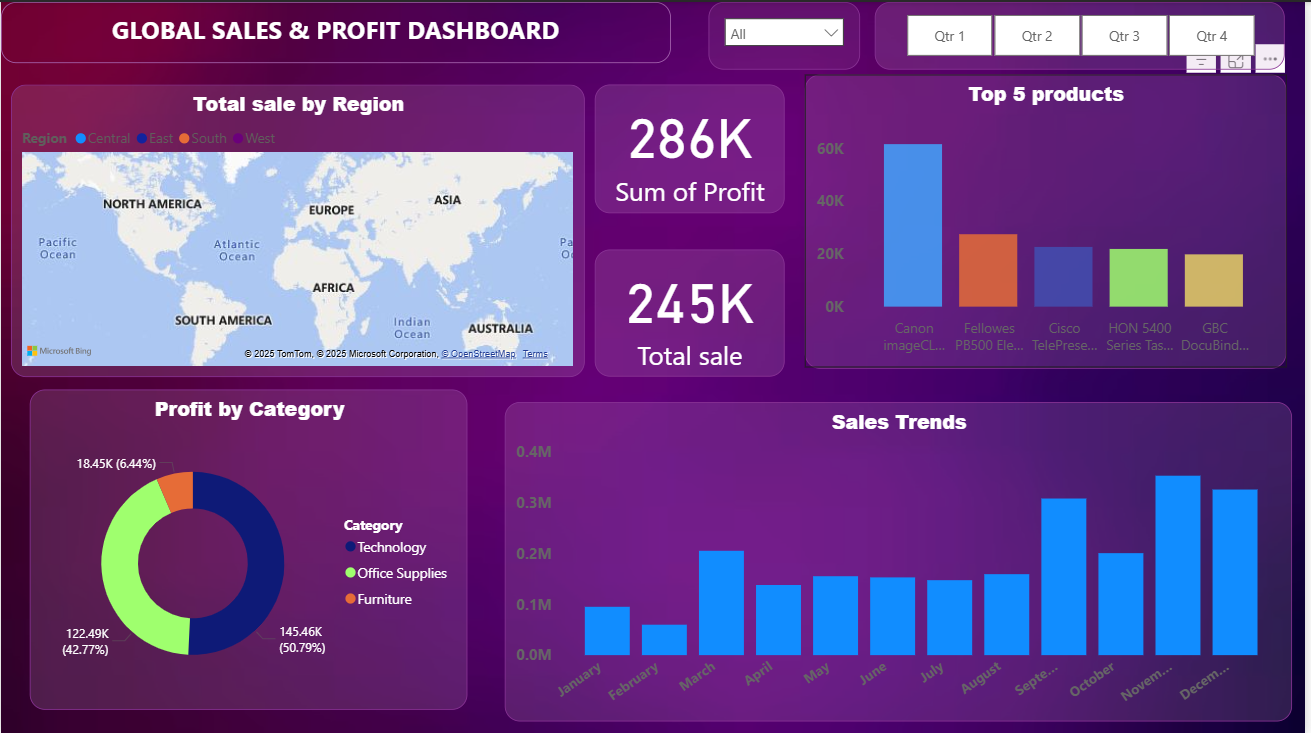

What the dashboard file says about the page in this screenshot:
{"tool":"powerbi","page":{"name":"Page 1","canvas":[1280,720],"ordinal":0},"visuals":[{"type":"donutChart","title":"Profit by Category","fields":{"Category":["sales fact_sales.Category"],"Y":["Sum(sales fact_sales.Profit)"]},"box":[28.5,380.6,429.8,314.6],"z":0},{"type":"columnChart","title":"Sales Trends","fields":{"Category":["sales fact_sales.OrderDate.Variation.Date Hierarchy.Month"],"Y":["Sum(sales fact_sales.Sales)"]},"box":[494.5,392.2,772.8,313.3],"z":1000},{"type":"textbox","box":[0,0,657.7,60.1],"z":2000},{"type":"columnChart","title":"Top 5 products","fields":{"Category":["sales fact_sales.ProductName"],"Y":["sales fact_sales.Total Sales"]},"box":[788.4,71.2,472.5,288.7],"z":3000},{"type":"card","title":"Top 10 products","fields":{"Values":["sales fact_sales.Total Sales"]},"box":[582.8,242.9,186.5,125.2],"z":4000},{"type":"card","fields":{"Values":["Sum(sales fact_sales.Profit)"]},"box":[582.8,81,186.5,126.4],"z":5000},{"type":"filledMap","fields":{"Series":["sales fact_sales.Region"]},"box":[10.4,81.6,563.1,287.4],"z":6000},{"type":"slicer","fields":{"Values":["sales fact_sales.OrderDate.Variation.Date Hierarchy.Quarter"]},"box":[857.7,0,402.5,66.3],"z":7000},{"type":"slicer","fields":{"Values":["sales fact_sales.Segment"]},"box":[694.5,0,148.5,66.3],"z":8000}]}

Visuals, with their boxes in screenshot pixels (x1, y1, x2, y2), scaled from the page's 1280x720 canvas onto the 1311x733 screenshot:
"Profit by Category" donutChart: [left=29, top=387, right=469, bottom=708]
"Sales Trends" columnChart: [left=506, top=399, right=1298, bottom=718]
textbox: [left=0, top=0, right=674, bottom=61]
"Top 5 products" columnChart: [left=807, top=72, right=1291, bottom=366]
"Top 10 products" card: [left=597, top=247, right=788, bottom=375]
card - Sum(sales fact_sales.Profit): [left=597, top=82, right=788, bottom=211]
filledMap - sales fact_sales.Region: [left=11, top=83, right=587, bottom=376]
slicer - sales fact_sales.OrderDate.Variation.Date Hierarchy.Quarter: [left=878, top=0, right=1291, bottom=67]
slicer - sales fact_sales.Segment: [left=711, top=0, right=863, bottom=67]
